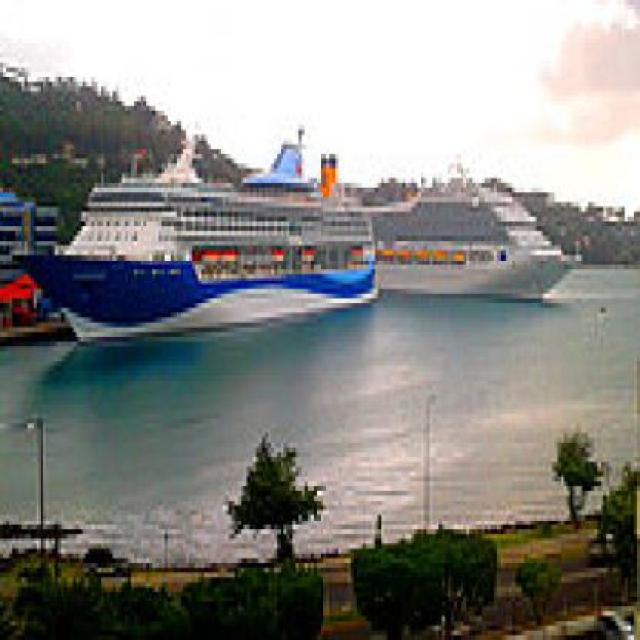cruise: (19, 131, 388, 357), (351, 160, 580, 319)
